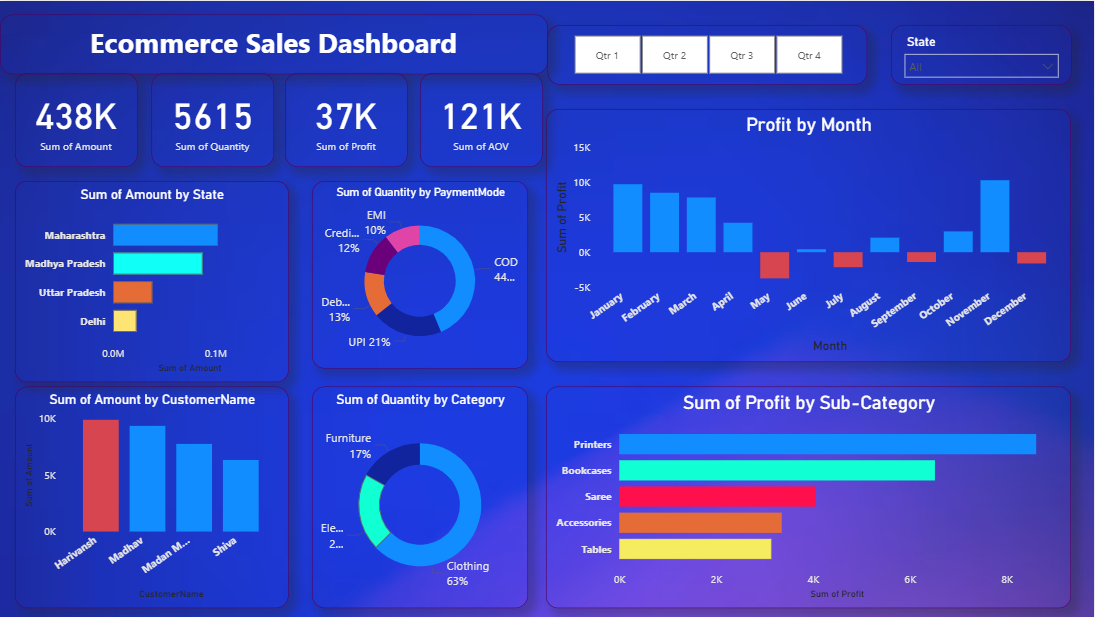

The page's visual inventory and layout, read from the dashboard file:
{"tool":"powerbi","page":{"name":"Page 1","canvas":[1280,720],"ordinal":0},"visuals":[{"type":"columnChart","title":"Profit by Month","fields":{"Y":["Details.Profit"],"Category":["Orders.Order Date.Variation.Date Hierarchy.Month"]},"box":[639.4,125.7,614,295.9],"z":0},{"type":"textbox","box":[0,15.1,640.6,69.9],"z":1000},{"type":"barChart","fields":{"Category":["Details.Sub-Category"],"Y":["Details.Profit"]},"box":[639.4,450.1,614,259.3],"z":2000},{"type":"donutChart","fields":{"Category":["Details.Category"],"Y":["Details.Quantity"]},"box":[364.2,450.1,252.9,259.3],"z":3000},{"type":"donutChart","fields":{"Category":["Details.PaymentMode"],"Y":["Details.Quantity"]},"box":[364.2,210,252.9,219.5],"z":4000},{"type":"card","fields":{"Values":["Details.Amount"]},"box":[17.5,84.3,143.2,109.8],"z":5000},{"type":"card","fields":{"Values":["Details.Quantity"]},"box":[176.6,84.3,143.2,109.8],"z":6000},{"type":"card","fields":{"Values":["Details.Profit"]},"box":[334,84.3,143.2,109.8],"z":7000},{"type":"card","fields":{"Values":["Details.AOV"]},"box":[491.5,84.3,143.2,109.8],"z":8000},{"type":"barChart","fields":{"Category":["Orders.State"],"Y":["Details.Amount"]},"box":[17.5,210,319.7,235.4],"z":9000},{"type":"columnChart","fields":{"Category":["Orders.CustomerName"],"Y":["Details.Amount"]},"box":[17,450,320,259],"z":9001},{"type":"slicer","fields":{"Values":["Orders.Order Date.Variation.Date Hierarchy.Quarter"]},"box":[640.6,28.3,374.2,69.9],"z":9002},{"type":"slicer","fields":{"Values":["Orders.State"]},"box":[1041.9,28.6,211.6,70],"z":9003}]}

Visuals, with their boxes in screenshot pixels (x1, y1, x2, y2), scaled from the page's 1280x720 canvas onto the 1095x617 screenshot:
"Profit by Month" columnChart: <bbox>547, 108, 1072, 361</bbox>
textbox: <bbox>0, 13, 548, 73</bbox>
barChart - Details.Sub-Category x Details.Profit: <bbox>547, 386, 1072, 608</bbox>
donutChart - Details.Category x Details.Quantity: <bbox>312, 386, 528, 608</bbox>
donutChart - Details.PaymentMode x Details.Quantity: <bbox>312, 180, 528, 368</bbox>
card - Details.Amount: <bbox>15, 72, 137, 166</bbox>
card - Details.Quantity: <bbox>151, 72, 274, 166</bbox>
card - Details.Profit: <bbox>286, 72, 408, 166</bbox>
card - Details.AOV: <bbox>420, 72, 543, 166</bbox>
barChart - Orders.State x Details.Amount: <bbox>15, 180, 288, 382</bbox>
columnChart - Orders.CustomerName x Details.Amount: <bbox>15, 386, 288, 608</bbox>
slicer - Orders.Order Date.Variation.Date Hierarchy.Quarter: <bbox>548, 24, 868, 84</bbox>
slicer - Orders.State: <bbox>891, 25, 1072, 84</bbox>
